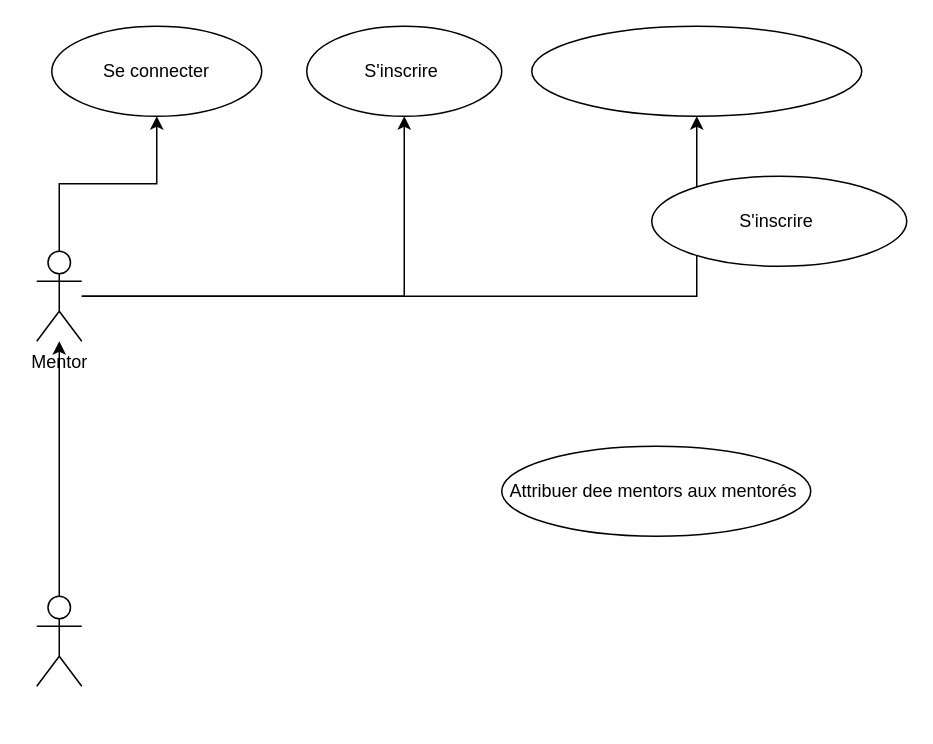
Image size: 933x744. Some labels were removed from this diagram. The shapes that lost their labels are listed below. From the top down, each one's centre as x and y in pixels, then its label:
At (696,70): "Définir un contrat de mentorat".
At (58,640): "Mentoré".
